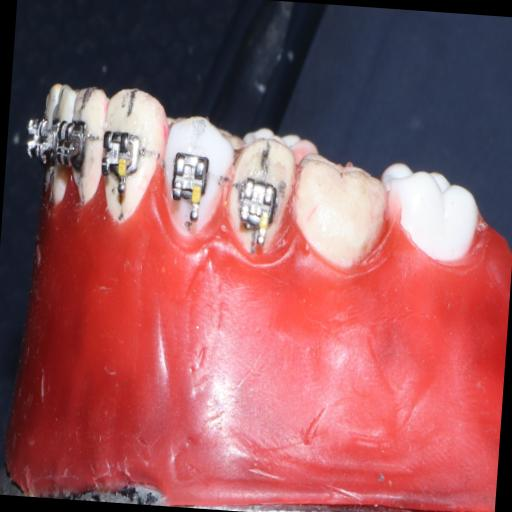correct_brace: (226, 136, 296, 256)
incorrect_brace: (236, 176, 278, 235)
